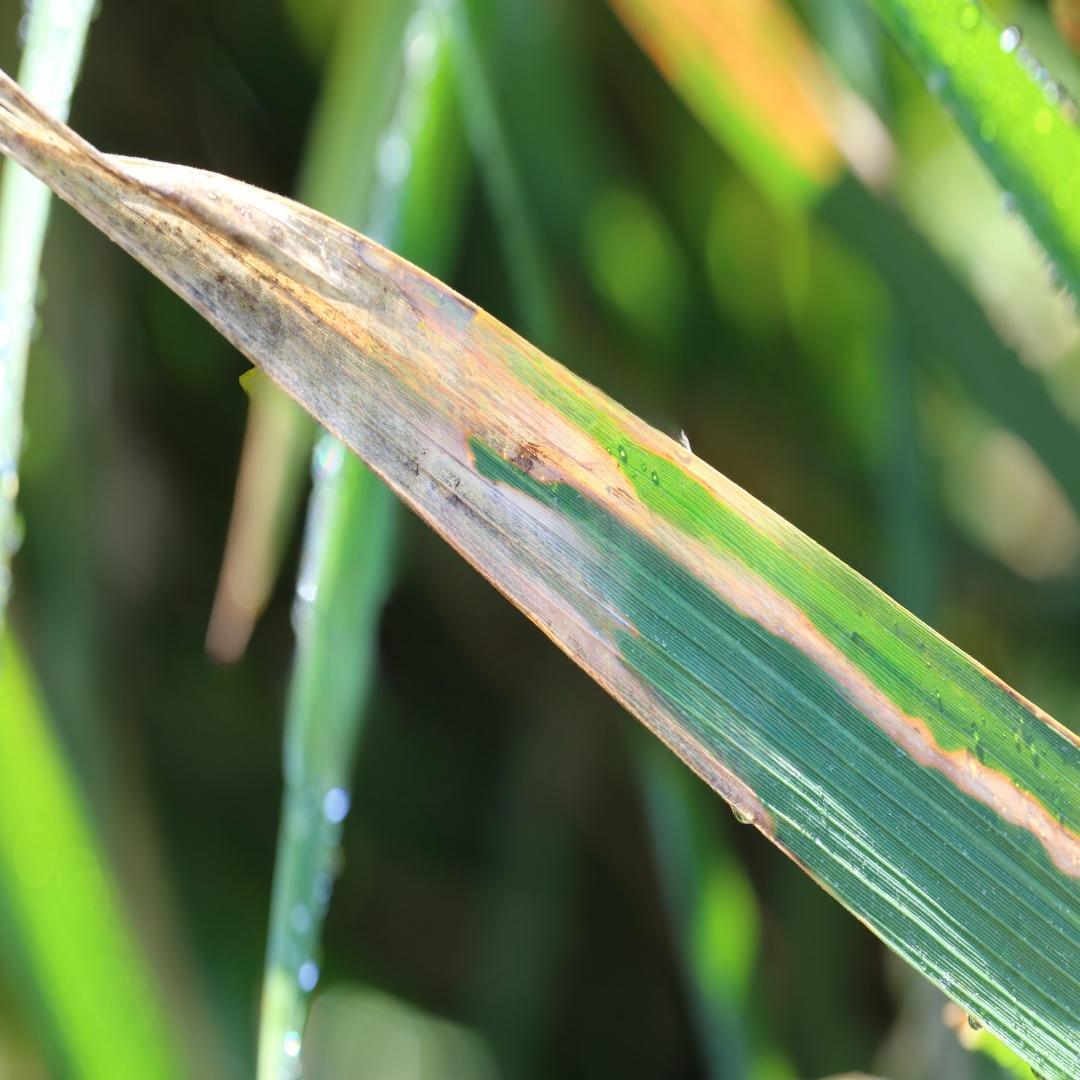BLB: (0, 74, 1078, 888)
LEAF: (0, 70, 1079, 1079)
